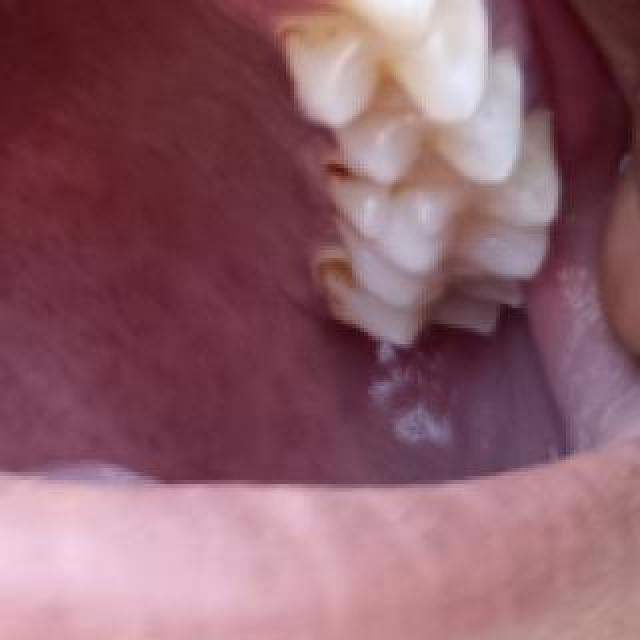stains: (292, 140, 396, 244), (255, 11, 361, 87), (270, 252, 376, 326)
